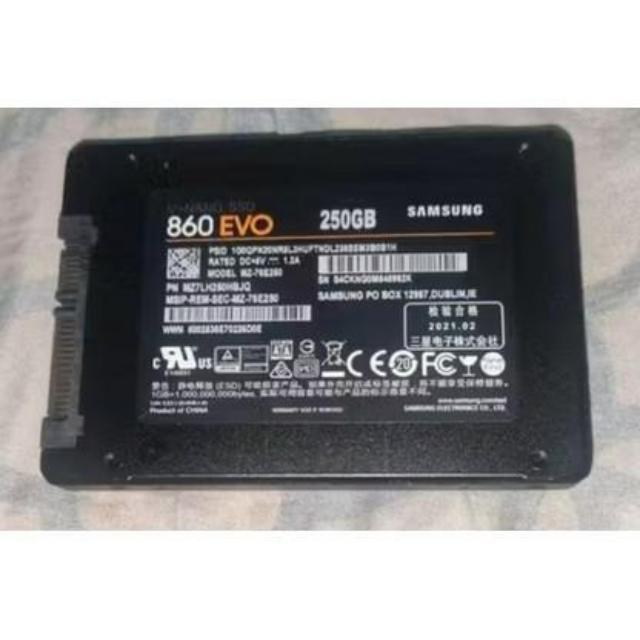DISK: (33, 132, 596, 494)
